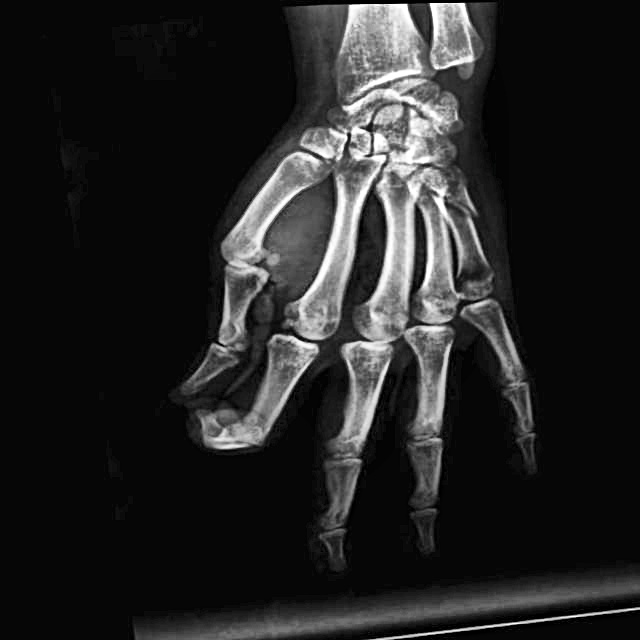Comminuted: (180, 394, 264, 468)
Oblique Displaced: (424, 173, 497, 248)
